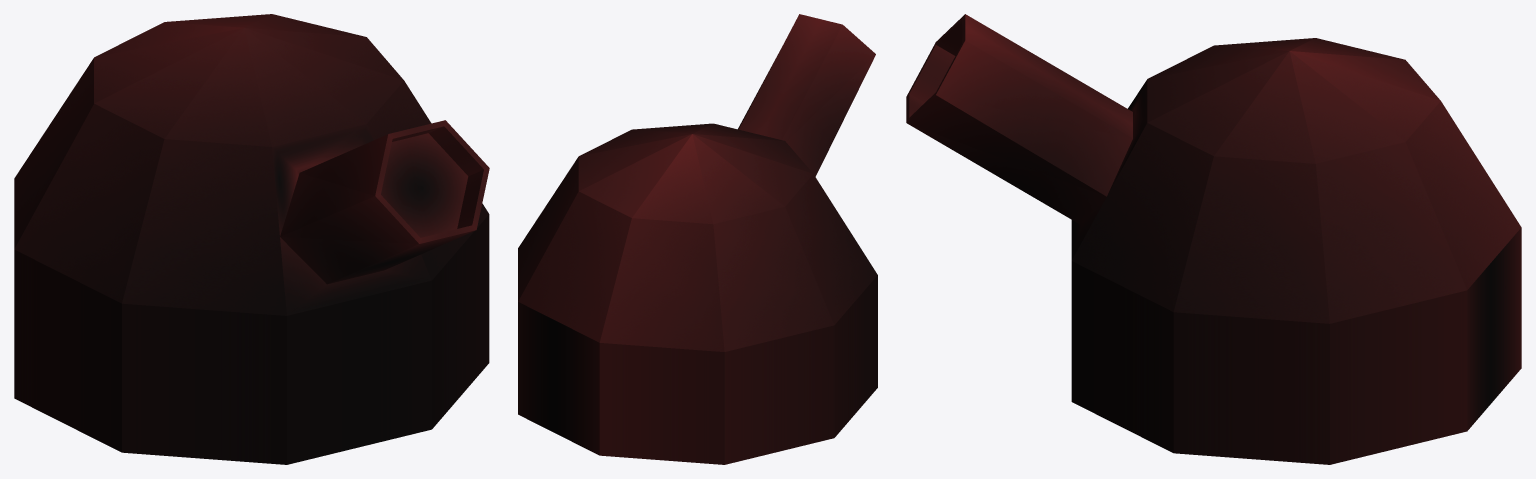
Rendered from Observatory.fbx.
The picture shows the model from 3 angles, left to right: view 1: azimuth 30°, elevation 25°; view 2: azimuth 150°, elevation 25°; view 3: azimuth 270°, elevation 25°; orthographic projection. The views are drawn at different scales.
Parts seen in each view (by area): view 1: Observatory; view 2: Observatory; view 3: Observatory.
Part boxes in pixels (x1,y1,x2,y2): Observatory: (14, 14, 489, 464); Observatory: (518, 14, 877, 464); Observatory: (906, 14, 1521, 464).
Size of the model in its own units: 81.54 by 67.32 by 110.
